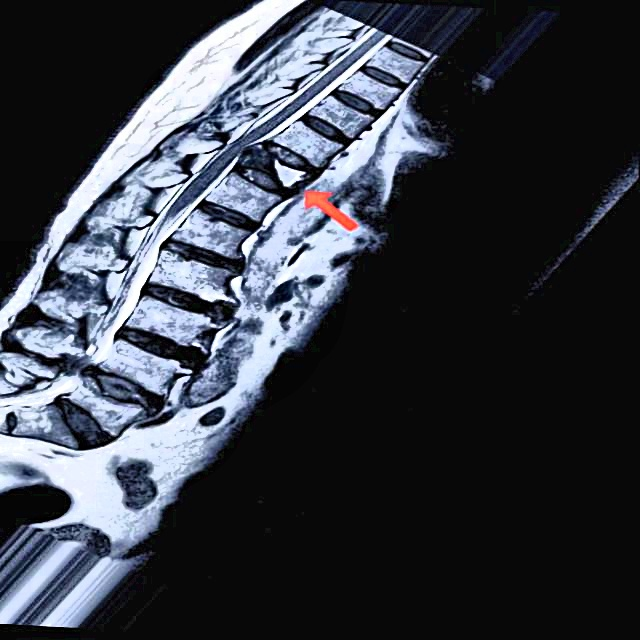Comminuted: (220, 123, 327, 206)
